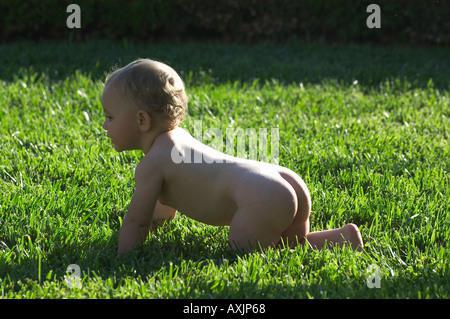child: (74, 54, 372, 270)
